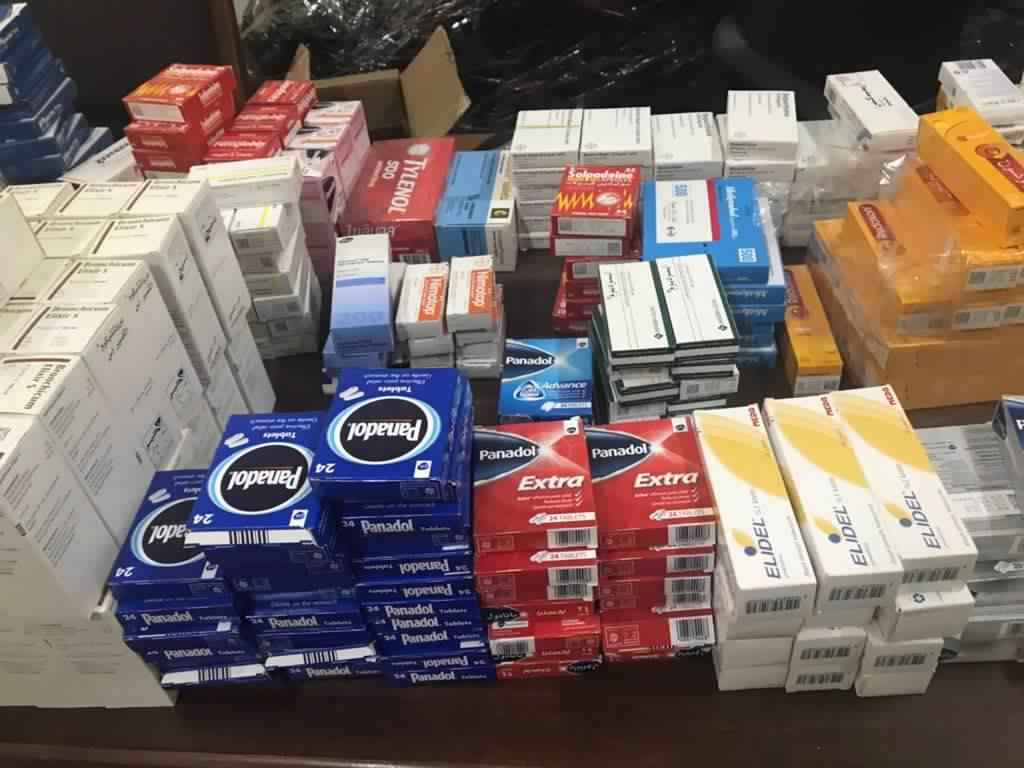Medicine: (10, 350, 142, 545), (761, 395, 894, 585), (831, 392, 975, 567), (690, 402, 810, 594), (5, 405, 105, 628), (309, 360, 463, 493), (189, 410, 322, 539), (585, 414, 714, 536), (473, 423, 598, 542), (101, 461, 212, 590), (924, 106, 1024, 228), (653, 252, 740, 352), (499, 333, 589, 415), (826, 68, 918, 148), (331, 230, 391, 341), (599, 260, 660, 353), (552, 163, 641, 225), (437, 199, 524, 255), (939, 60, 1021, 118), (190, 160, 306, 201), (725, 88, 801, 150), (647, 112, 722, 170), (507, 106, 580, 157), (391, 264, 445, 327), (584, 107, 652, 155), (448, 255, 494, 322)
